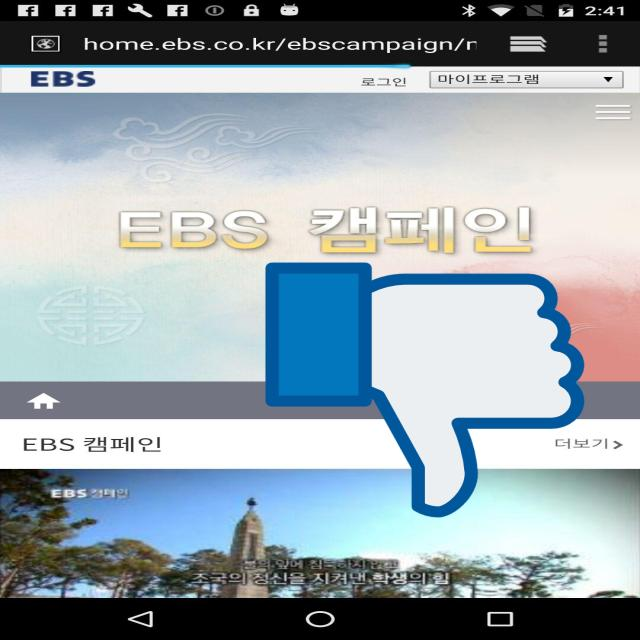obstruction: (266, 257, 584, 523)
